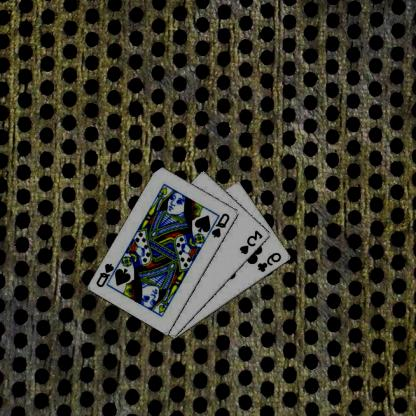3S: (239, 228, 266, 256)
9C: (257, 250, 285, 274)
QS: (211, 210, 233, 238), (95, 261, 117, 288)
